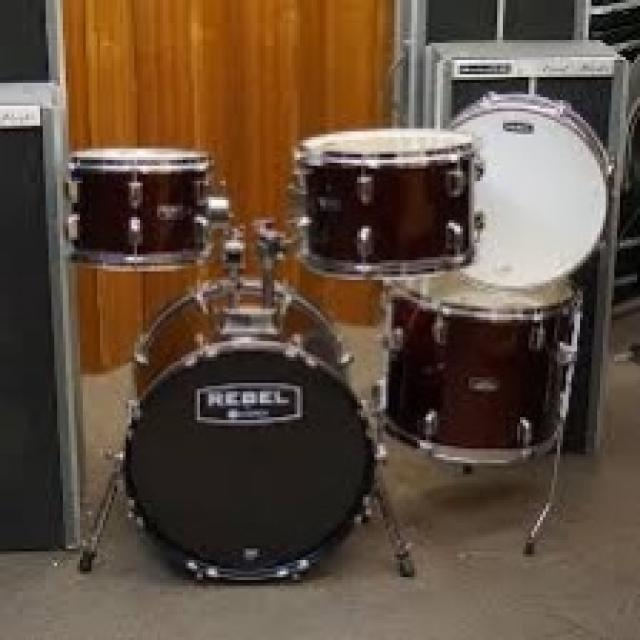drums: (65, 91, 614, 590)
